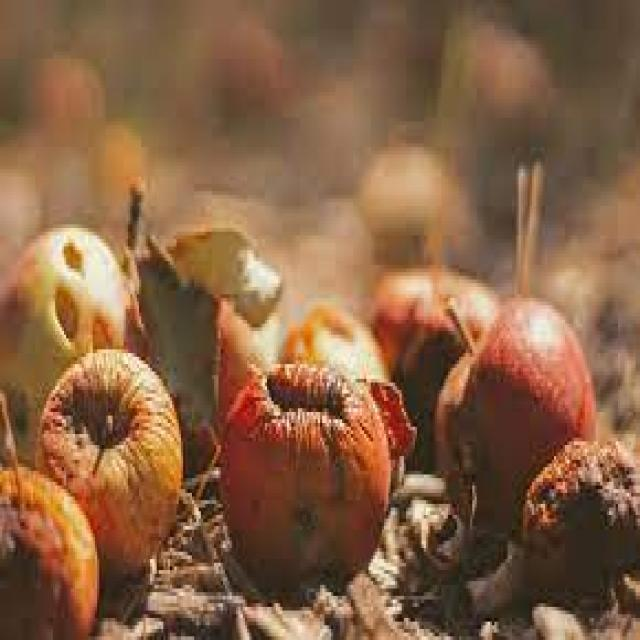Organik: (2, 177, 640, 640)
